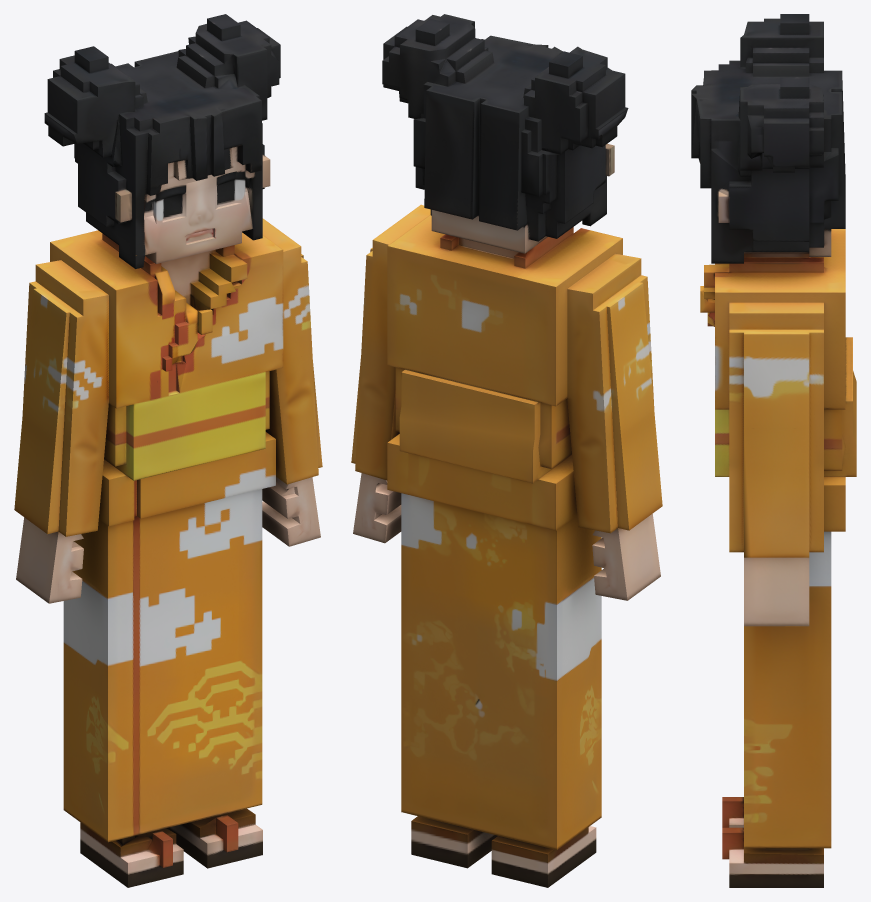
File: mujer2.obj
3 views of the same model, side by side, from view 1: azimuth 30°, elevation 25°; view 2: azimuth 150°, elevation 25°; view 3: azimuth 270°, elevation 25° (orthographic). The views are drawn at different scales.
Visible parts, largest first — view 1: model; view 2: model; view 3: model.
Part boxes in pixels (left/top/right/bottom): model: left=14, top=14, right=322, bottom=887; model: left=351, top=14, right=662, bottom=887; model: left=691, top=14, right=856, bottom=887.
Size of the model in its own units: 0.6779 by 1.91 by 0.3566.
Materials: 1 (1 with a texture image).
